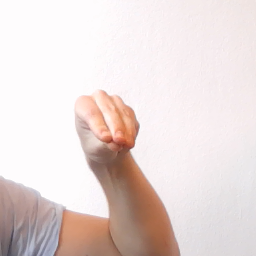M: (71, 89, 144, 160)
